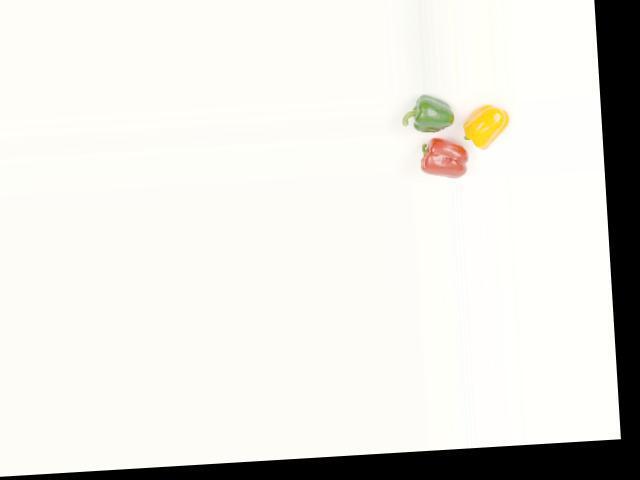bell_pepper: (398, 92, 455, 136)
